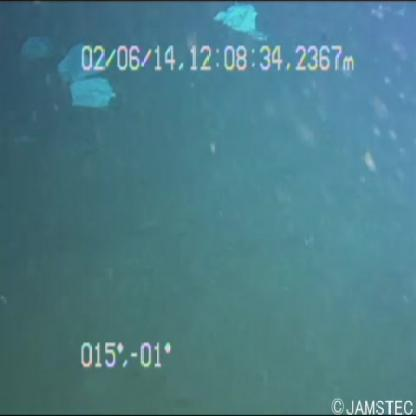Rác: (45, 31, 123, 112), (204, 1, 270, 41)
